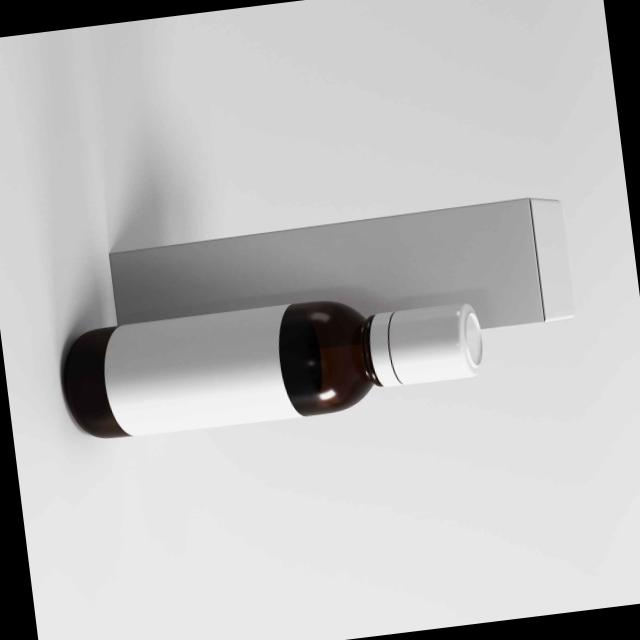cardboard_box: (96, 181, 591, 339)
plastic_bottle: (45, 292, 486, 466)
